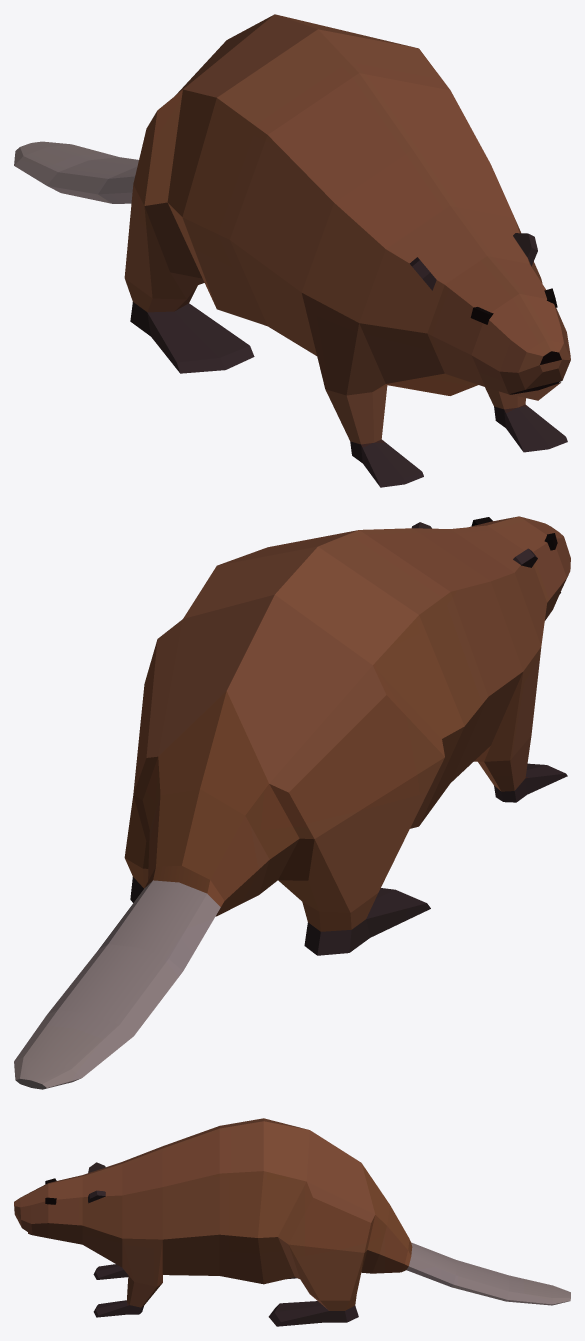
The model's file is fwtA7VLrXPr.glb.
The picture shows the model from 3 angles, top to bottom: view 1: azimuth 30°, elevation 25°; view 2: azimuth 150°, elevation 25°; view 3: azimuth 270°, elevation 25°; orthographic projection. The views are drawn at different scales.
Visible parts, largest first — view 1: Geo_Beaver; view 2: Geo_Beaver; view 3: Geo_Beaver.
Part boxes in pixels (x1,y1,x2,y2): Geo_Beaver: [14, 14, 570, 487]; Geo_Beaver: [14, 516, 570, 1089]; Geo_Beaver: [14, 1118, 570, 1326].
Bounding box in the file's own units: 0.9377 × 0.9999 × 2.81.
Materials: 1 (1 with a texture image).
